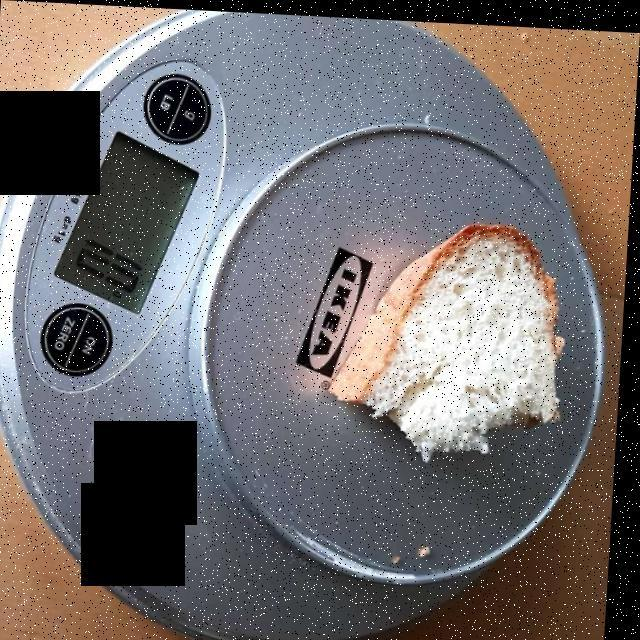bread: (336, 221, 563, 450)
